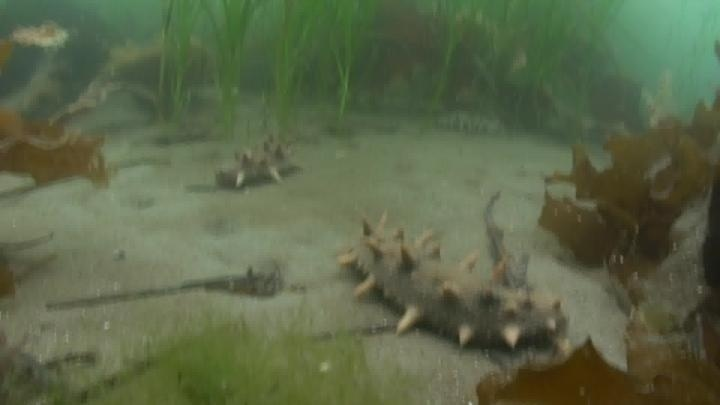holothurian: (343, 218, 569, 356), (212, 135, 305, 194), (431, 107, 507, 139)
